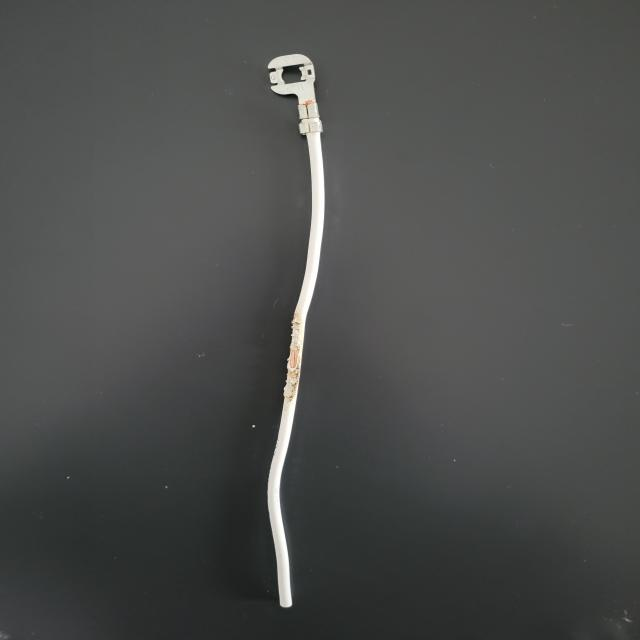defect: (248, 301, 338, 418)
